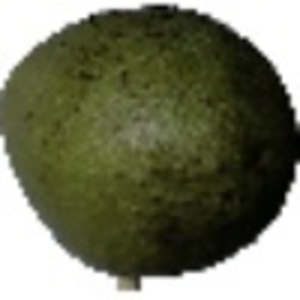abacate: (2, 3, 297, 283)
